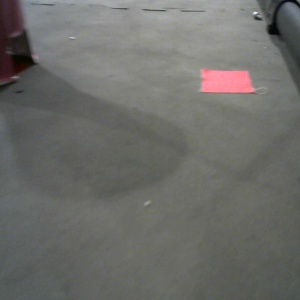right: (206, 1, 300, 131)
